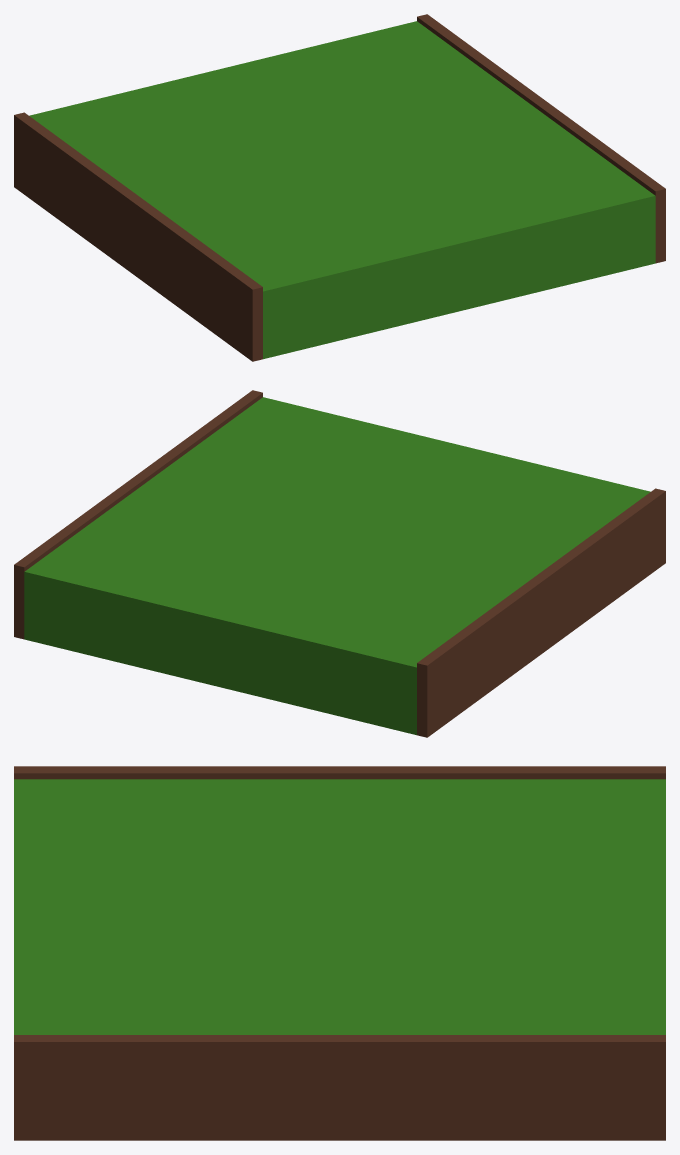
File: SM_flowerbed_02.glb
The picture shows the model from 3 angles, top to bottom: view 1: azimuth 30°, elevation 25°; view 2: azimuth 150°, elevation 25°; view 3: azimuth 270°, elevation 25°; orthographic projection. The views are drawn at different scales.
Parts seen in each view (by area): view 1: SM_flowerbed_02; view 2: SM_flowerbed_02; view 3: SM_flowerbed_02.
Part boxes in pixels (box(x1,y1,x2,y2)): SM_flowerbed_02: box(14, 14, 665, 361); SM_flowerbed_02: box(14, 390, 665, 737); SM_flowerbed_02: box(14, 766, 665, 1140).
Size of the model in its own units: 1.8 by 0.3 by 1.8.
1 material, 1 textured.
